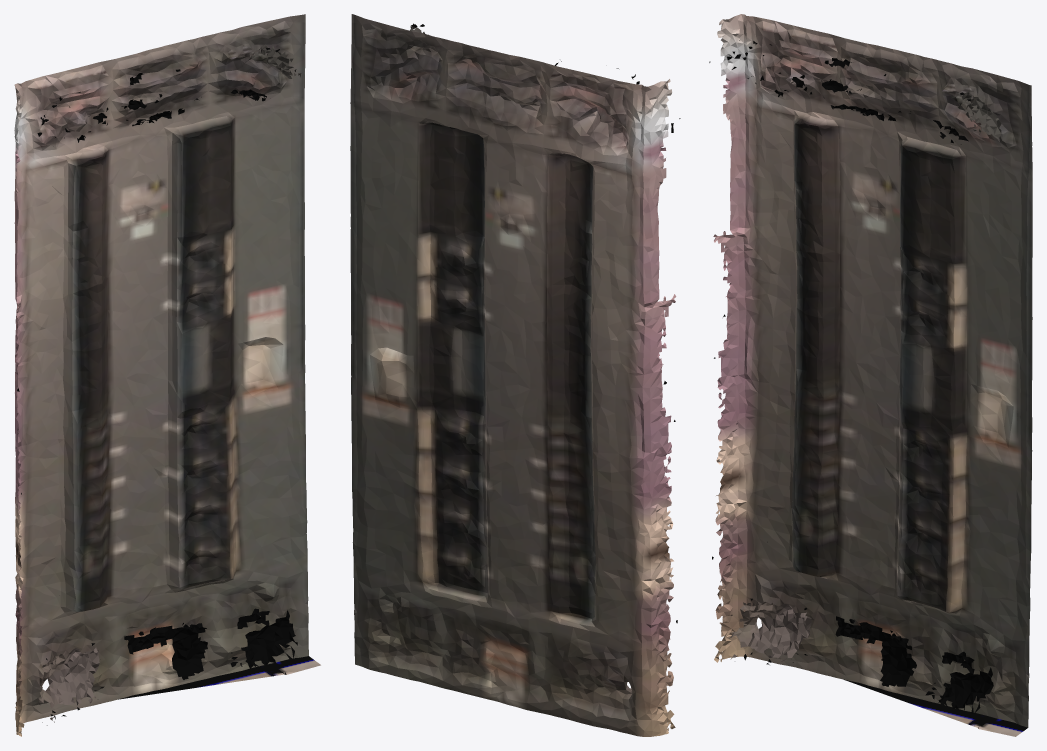
The model's file is ER_Small_Switches.obj.
The picture shows the model from 3 angles, left to right: view 1: azimuth 30°, elevation 25°; view 2: azimuth 150°, elevation 25°; view 3: azimuth 330°, elevation 25°; orthographic projection. The views are drawn at different scales.
Parts seen in each view (by area): view 1: ElectricRoom_SmallSwitches; view 2: ElectricRoom_SmallSwitches; view 3: ElectricRoom_SmallSwitches.
Part boxes in pixels (x1,y1,x2,y2): ElectricRoom_SmallSwitches: (14, 14, 320, 736); ElectricRoom_SmallSwitches: (350, 14, 680, 736); ElectricRoom_SmallSwitches: (709, 14, 1032, 736).
Size of the model in its own units: 1.15 by 2.3 by 0.2084.
1 material, 1 textured.
